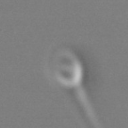normal: (74, 86, 100, 128)
